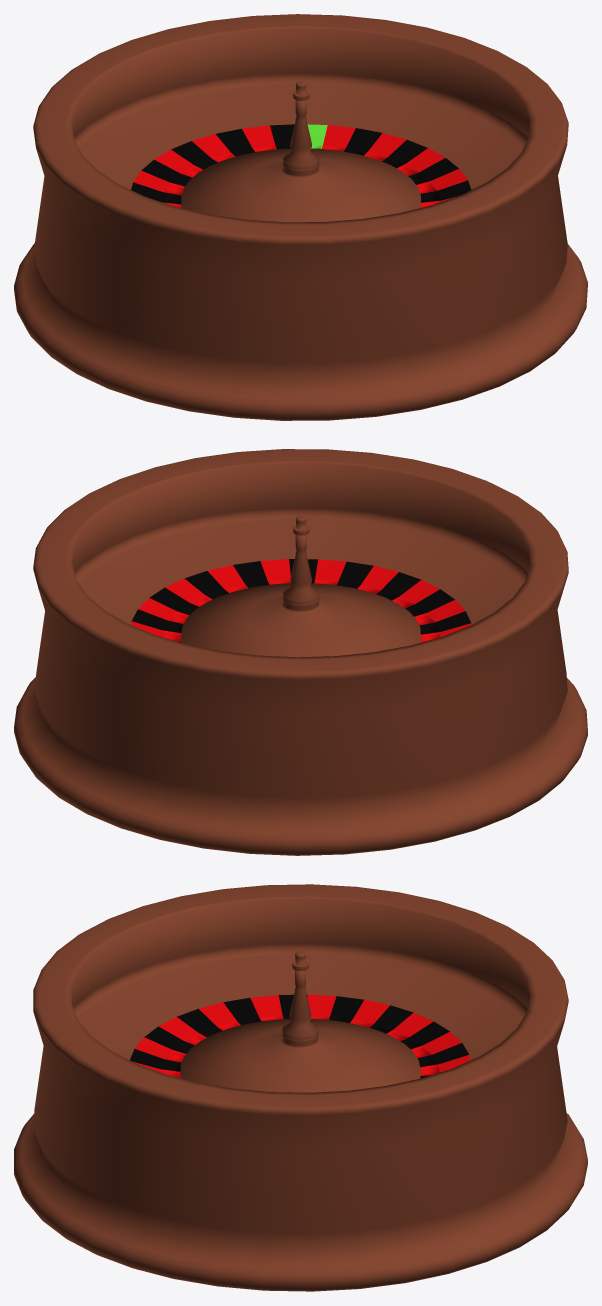
The model's file is roulette_wheel.fbx.
The picture shows the model from 3 angles, top to bottom: view 1: azimuth 30°, elevation 25°; view 2: azimuth 150°, elevation 25°; view 3: azimuth 270°, elevation 25°; orthographic projection.
Visible parts, largest first — view 1: Cylinder; view 2: Cylinder; view 3: Cylinder.
Part boxes in pixels (x1,y1,x2,y2): Cylinder: (14,14,587,420); Cylinder: (14,449,587,855); Cylinder: (14,884,587,1291).
Size of the model in its own units: 224 by 94.61 by 224.
